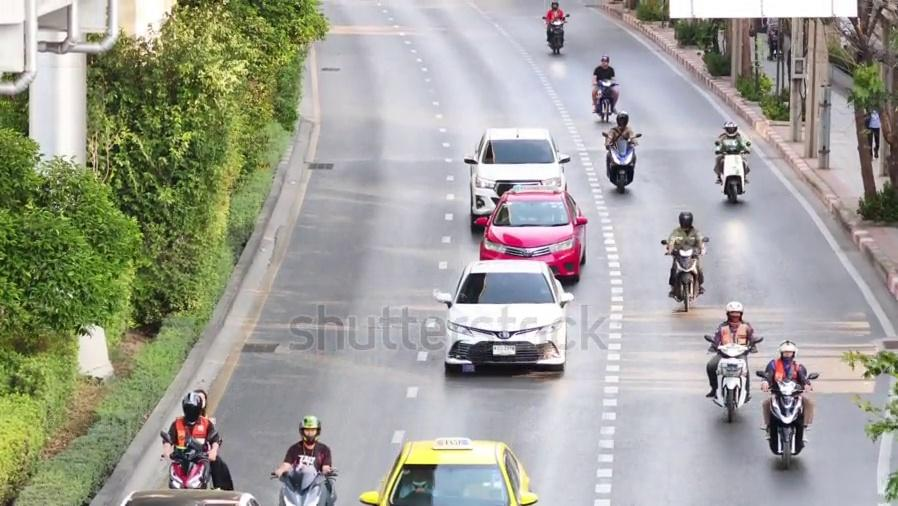person: (864, 108, 881, 158)
rider: (159, 389, 222, 489), (273, 414, 337, 505), (758, 340, 813, 445), (704, 300, 755, 401), (662, 210, 707, 298), (713, 120, 751, 184), (602, 111, 638, 164), (590, 54, 619, 113), (543, 1, 565, 44)
with_helmate: (295, 413, 325, 443), (722, 301, 748, 326), (775, 339, 800, 362), (180, 396, 201, 422), (677, 212, 696, 233), (723, 117, 740, 137), (614, 110, 632, 128), (595, 56, 614, 71)
